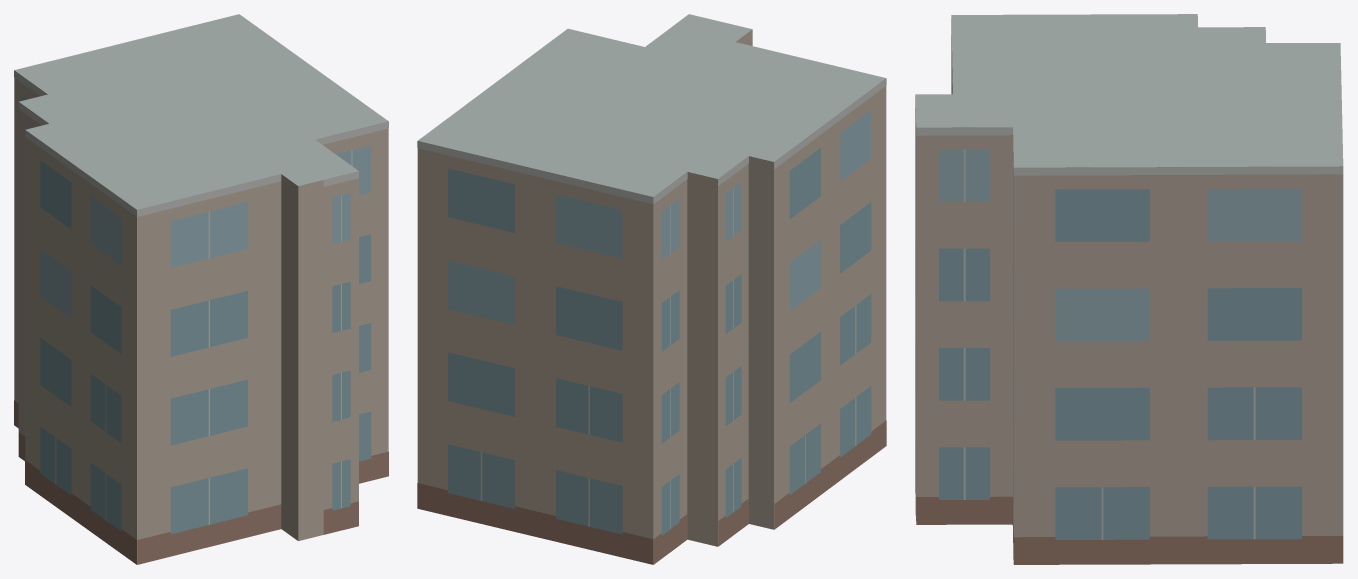
File: residential-3464de6e-ba10-4df8-ad1f-01df3246b20b.glb
3 renders of one model, left to right at view 1: azimuth 30°, elevation 25°; view 2: azimuth 150°, elevation 25°; view 3: azimuth 270°, elevation 25°, orthographic. The views are drawn at different scales.
Visible parts, largest first — view 1: residential-3464de6e-ba10-4df8-ad1f-01df3246b20b.tmp; view 2: residential-3464de6e-ba10-4df8-ad1f-01df3246b20b.tmp; view 3: residential-3464de6e-ba10-4df8-ad1f-01df3246b20b.tmp.
Part boxes in pixels (x1=…): residential-3464de6e-ba10-4df8-ad1f-01df3246b20b.tmp: x1=14, y1=14, x2=388, y2=564; residential-3464de6e-ba10-4df8-ad1f-01df3246b20b.tmp: x1=417, y1=14, x2=886, y2=564; residential-3464de6e-ba10-4df8-ad1f-01df3246b20b.tmp: x1=915, y1=14, x2=1343, y2=564.
Bounding box in the file's own units: 10.13 × 12.2 × 11.92.
